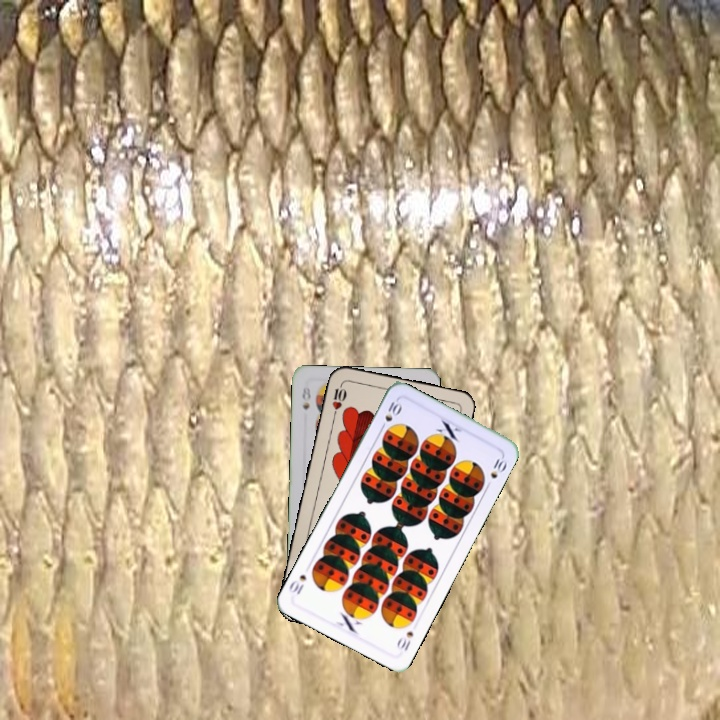H10: (328, 380, 349, 420)
S10: (376, 396, 404, 433), (393, 627, 416, 654)
S8: (298, 383, 313, 413)
